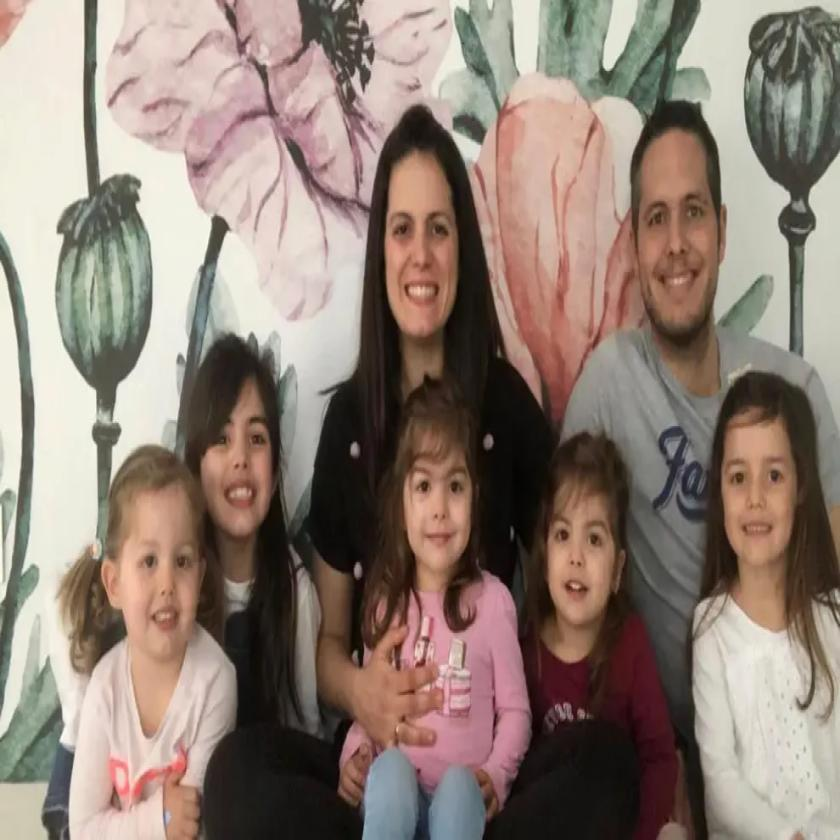Sin_casco: (701, 353, 834, 594), (366, 91, 483, 348), (623, 78, 732, 334), (94, 444, 212, 678), (188, 331, 290, 544), (390, 376, 485, 578), (534, 433, 636, 620)
